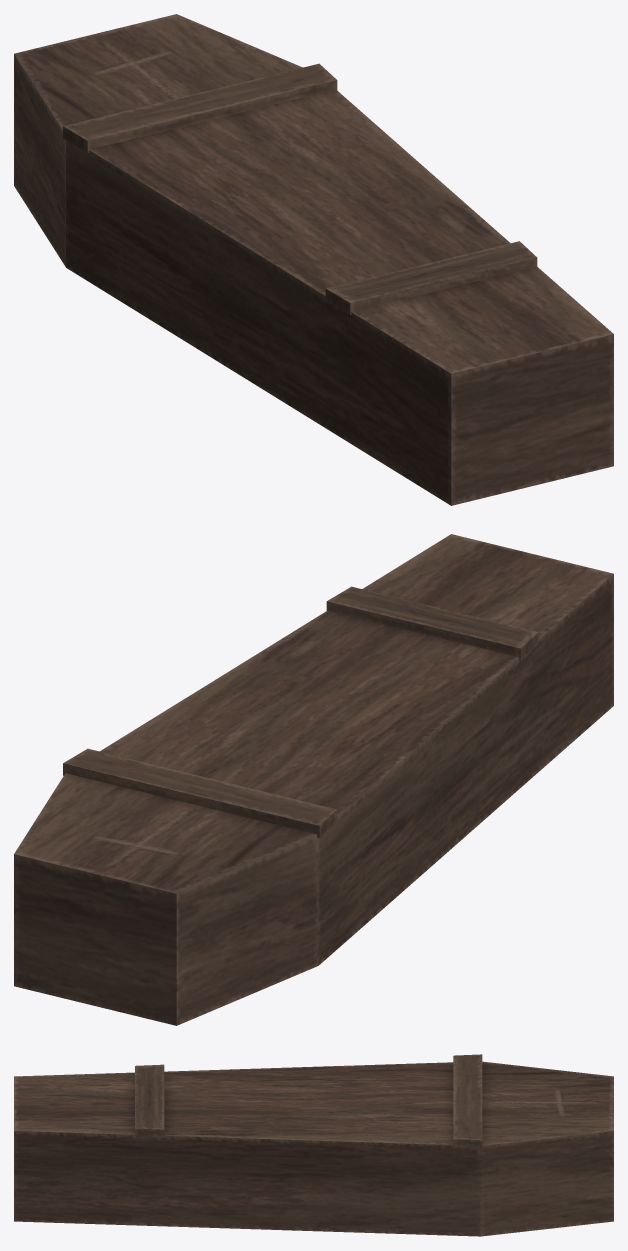
Rendered from Coffin.fbx.
3 views of the same model, one above another, from view 1: azimuth 30°, elevation 25°; view 2: azimuth 150°, elevation 25°; view 3: azimuth 270°, elevation 25° (orthographic). The views are drawn at different scales.
Parts seen in each view (by area): view 1: Coffin; view 2: Coffin; view 3: Coffin.
Boxes of the visible parts, x1,y1,x2,y2 form: Coffin: (14, 14, 613, 505); Coffin: (14, 534, 613, 1025); Coffin: (14, 1054, 613, 1236).
Size of the model in its own units: 60.95 by 32.09 by 180.
